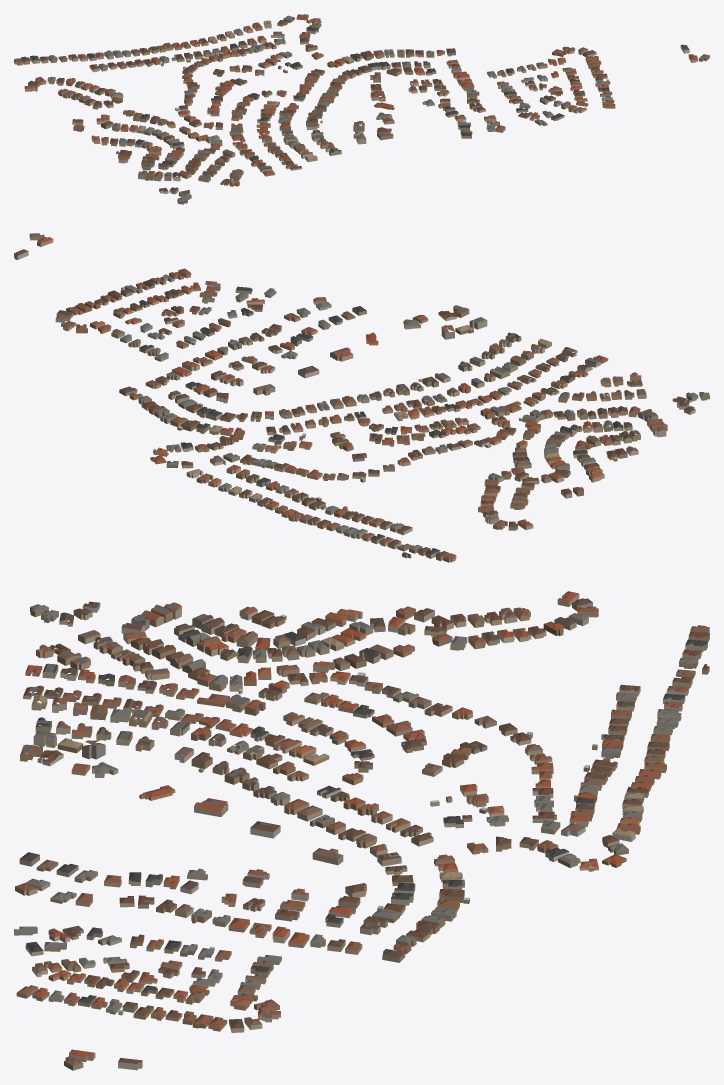
The picture shows the model from 3 angles, top to bottom: view 1: azimuth 30°, elevation 25°; view 2: azimuth 150°, elevation 25°; view 3: azimuth 270°, elevation 25°; orthographic projection. The views are drawn at different scales.
Visible parts, largest first — view 1: buildings_r0_c7_lod1; view 2: buildings_r0_c7_lod1; view 3: buildings_r0_c7_lod1.
Boxes of the visible parts, x1,y1,x2,y2 form: buildings_r0_c7_lod1: (14,14,709,204); buildings_r0_c7_lod1: (14,233,709,562); buildings_r0_c7_lod1: (14,591,709,1070).
Bounding box in the file's own units: 1145 × 71.4 × 705.
